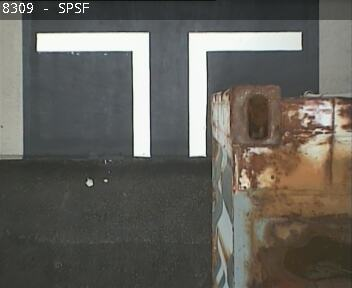groundmarker_1: (35, 32, 302, 154)
